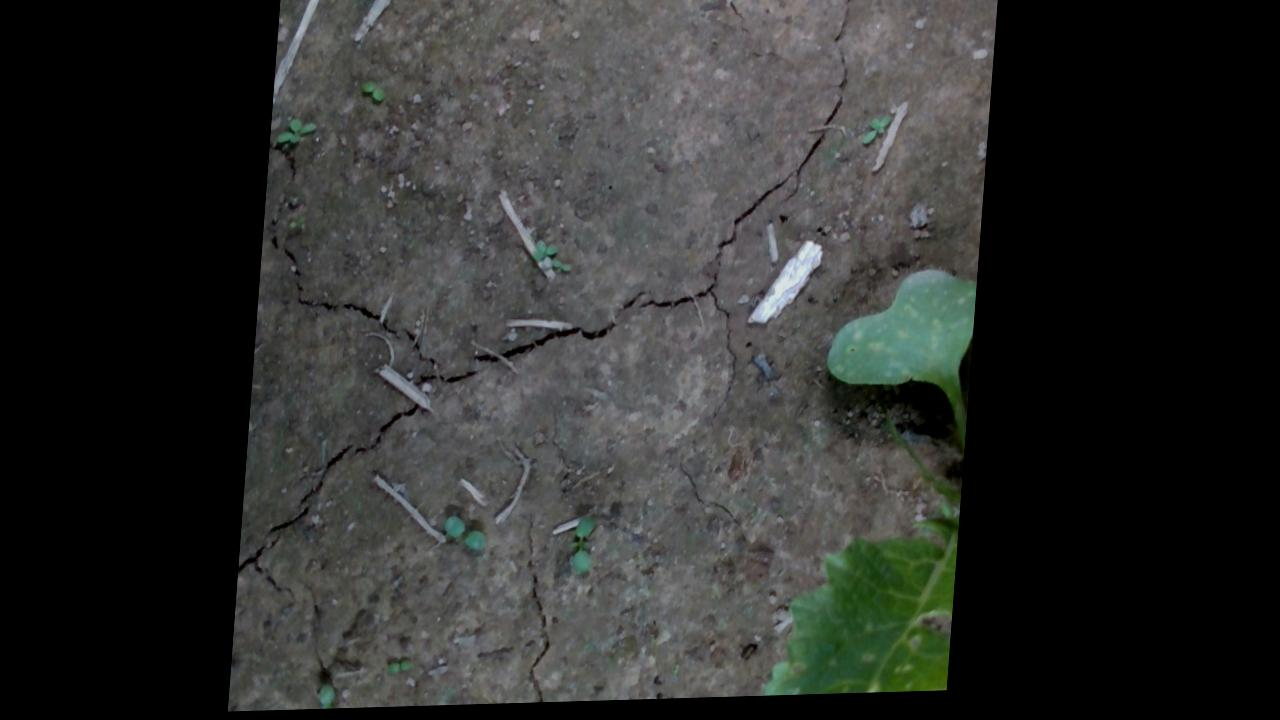weed: (577, 517, 606, 577)
